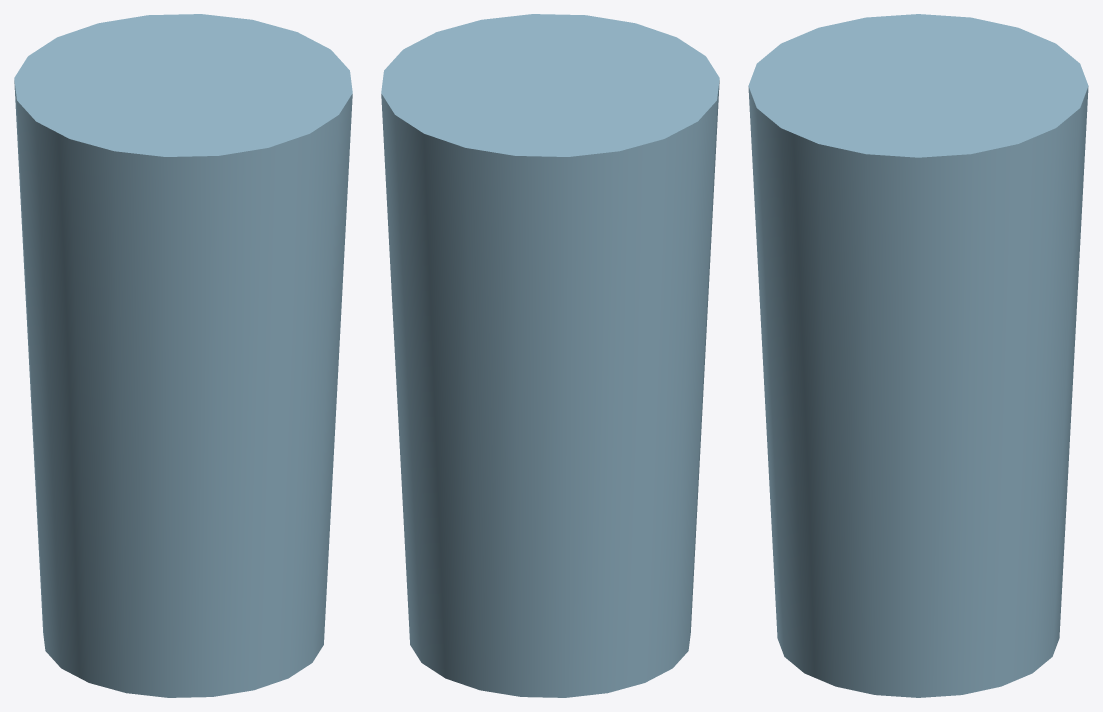
File: beer_glass.glb
3 views of the same model, side by side, from view 1: azimuth 30°, elevation 25°; view 2: azimuth 150°, elevation 25°; view 3: azimuth 270°, elevation 25° (orthographic).
Visible parts, largest first — view 1: beer_glass; view 2: beer_glass; view 3: beer_glass.
Boxes of the visible parts, left/top/right/bottom form: beer_glass: left=14, top=14, right=352, bottom=697; beer_glass: left=381, top=14, right=719, bottom=697; beer_glass: left=748, top=14, right=1088, bottom=697.
Bounding box in the file's own units: 0.082 × 0.147 × 0.082.
